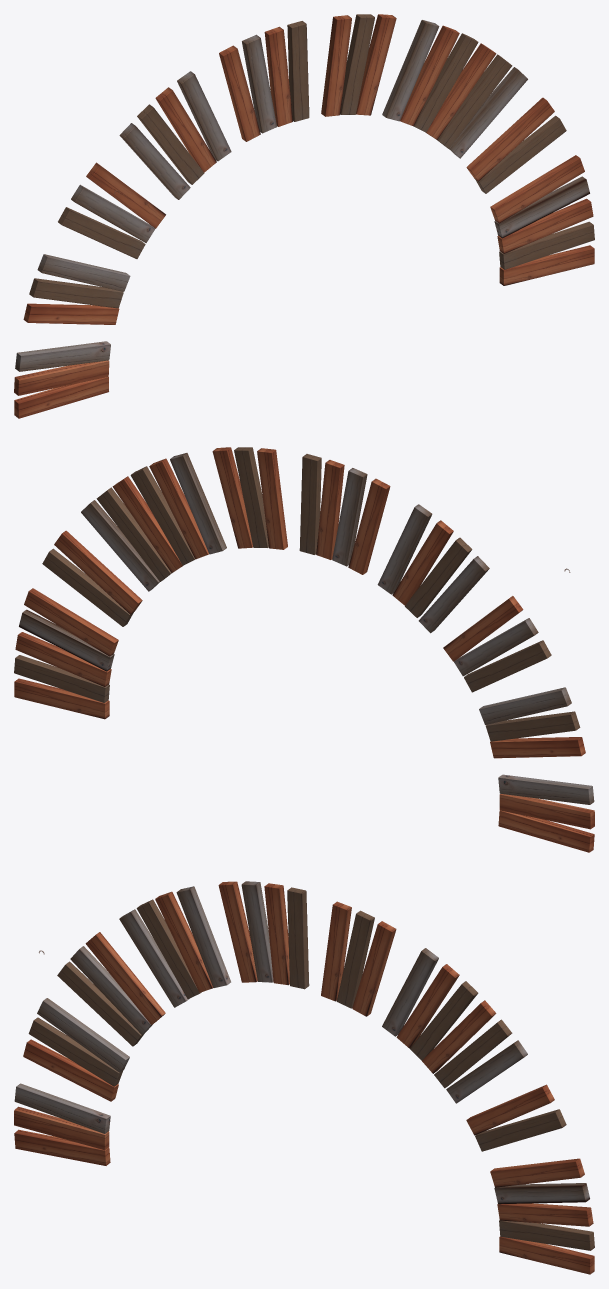
File: Ai_path_curve.fbx
The picture shows the model from 3 angles, top to bottom: view 1: azimuth 30°, elevation 25°; view 2: azimuth 150°, elevation 25°; view 3: azimuth 330°, elevation 25°; orthographic projection.
Parts seen in each view (by area): view 1: curve_path1; view 2: curve_path1; view 3: curve_path1.
Part boxes in pixels (box(x1,y1,x2,y2)): curve_path1: box(14, 14, 594, 418); curve_path1: box(14, 447, 594, 852); curve_path1: box(14, 881, 594, 1274).
Bounding box in the file's own units: 4598566 × 2481430 × 559887.
